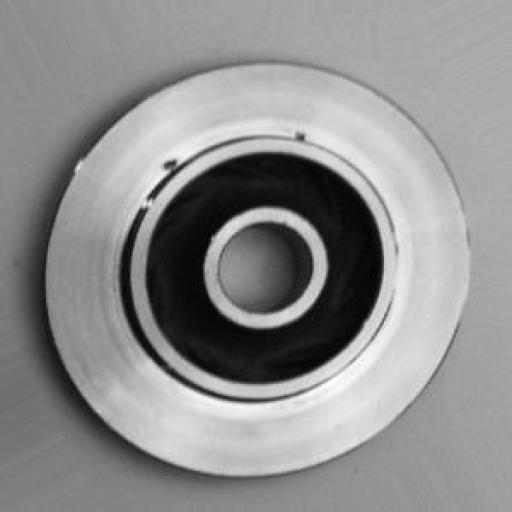defect: (108, 111, 362, 186)
